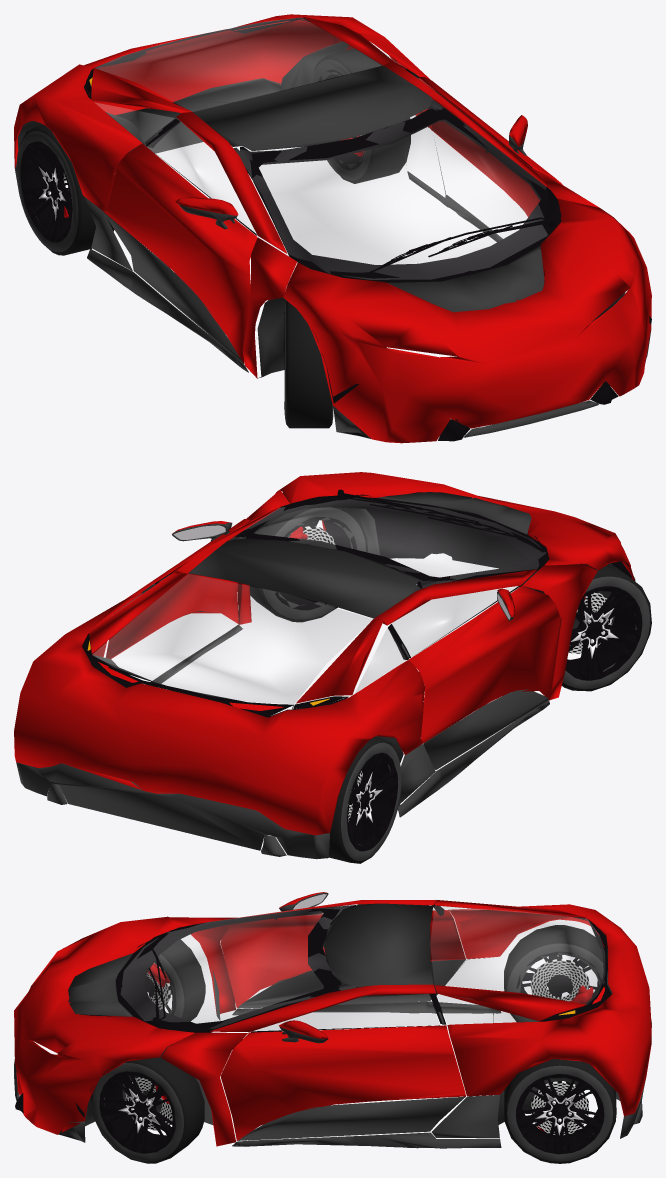
The model's file is car.glb.
The picture shows the model from 3 angles, top to bottom: view 1: azimuth 30°, elevation 25°; view 2: azimuth 150°, elevation 25°; view 3: azimuth 270°, elevation 25°; orthographic projection. The views are drawn at different scales.
Parts seen in each view (by area): view 1: BodyHood, BodyWindshield, BodyRearPanelsColor1, BodyRearwindow, BodyDoorRColor1, BodyRoofPanel, BodyWindshieldGasket, BodyPanelsColor2, BodyPillars, BodyHoodTopgrill, WheelFrontR, WheelRearRRim (+11 smaller); view 2: BodyRearPanelsColor1, BodyRearwindow, BodyPanelsColor2, BodyWindshield, BodyDoorRColor1, BodyRoofPanel, BodyHood, BodyPillars, BodyWindshieldGasket, BodyHoodInterior01, WheelFrontRRim, BodyDoorLColor1 (+12 smaller); view 3: BodyRearPanelsColor1, BodyDoorLColor1, BodyHood, BodyWindshield, BodyRearwindow, BodyPillars, BodyRoofPanel, BodyPanelsColor2, BodyDoorRColor1, BodyWindshieldGasket, BodyDoorLColor2, WheelFrontL (+17 smaller).
Part boxes in pixels (box(x1,y1,x2,y2)): BodyHood: box(283, 199, 651, 443); BodyWindshield: box(234, 99, 547, 279); BodyRearPanelsColor1: box(14, 14, 434, 211); BodyRearwindow: box(96, 18, 381, 111); BodyDoorRColor1: box(104, 143, 257, 363); BodyRoofPanel: box(193, 65, 431, 150); BodyWindshieldGasket: box(234, 99, 561, 282); BodyPanelsColor2: box(15, 78, 651, 438); BodyPillars: box(176, 61, 599, 378); BodyHoodTopgrill: box(388, 246, 544, 312); WheelFrontR: box(285, 300, 333, 428); WheelRearRRim: box(20, 141, 72, 242); BodyRearPanelsColor1: box(14, 573, 424, 835); BodyRearwindow: box(93, 574, 372, 703); BodyPanelsColor2: box(16, 624, 549, 859); BodyWindshield: box(231, 498, 545, 587); BodyDoorRColor1: box(408, 586, 560, 743); BodyRoofPanel: box(188, 538, 421, 618); BodyHood: box(277, 472, 634, 580); BodyPillars: box(172, 490, 597, 700); BodyWindshieldGasket: box(230, 497, 549, 588); BodyHoodInterior01: box(281, 490, 635, 581); WheelFrontRRim: box(556, 586, 642, 680); BodyDoorLColor1: box(105, 519, 250, 658); BodyRearPanelsColor1: box(434, 900, 651, 1116); BodyDoorLColor1: box(220, 1025, 465, 1140); BodyHood: box(14, 916, 194, 1134); BodyWindshield: box(121, 905, 355, 1028); BodyRearwindow: box(430, 906, 604, 1004); BodyPillars: box(160, 900, 435, 1146); BodyRoofPanel: box(324, 903, 433, 987); BodyPanelsColor2: box(14, 957, 651, 1148); BodyDoorRColor1: box(220, 910, 465, 1007); BodyWindshieldGasket: box(116, 905, 355, 1032); BodyDoorLColor2: box(238, 1096, 465, 1140); WheelFrontL: box(90, 1051, 204, 1163).
Bounding box in the file's own units: 2.54 × 1.14 × 4.33.
Materials: 14 (3 with a texture image).
